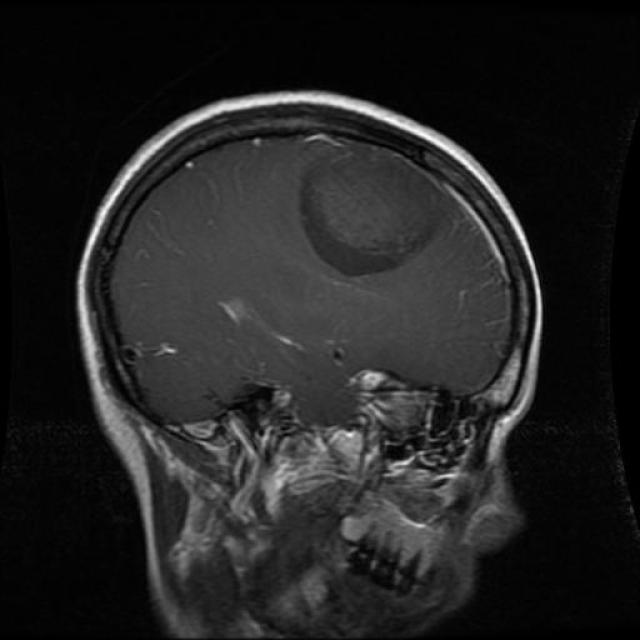glioma: (286, 140, 448, 280)
